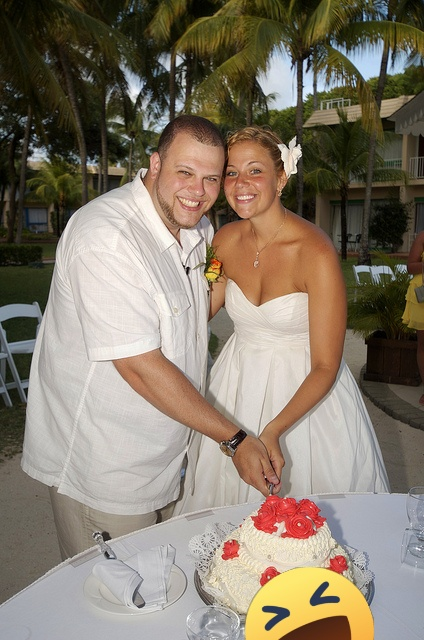haha: (245, 567, 374, 640)
